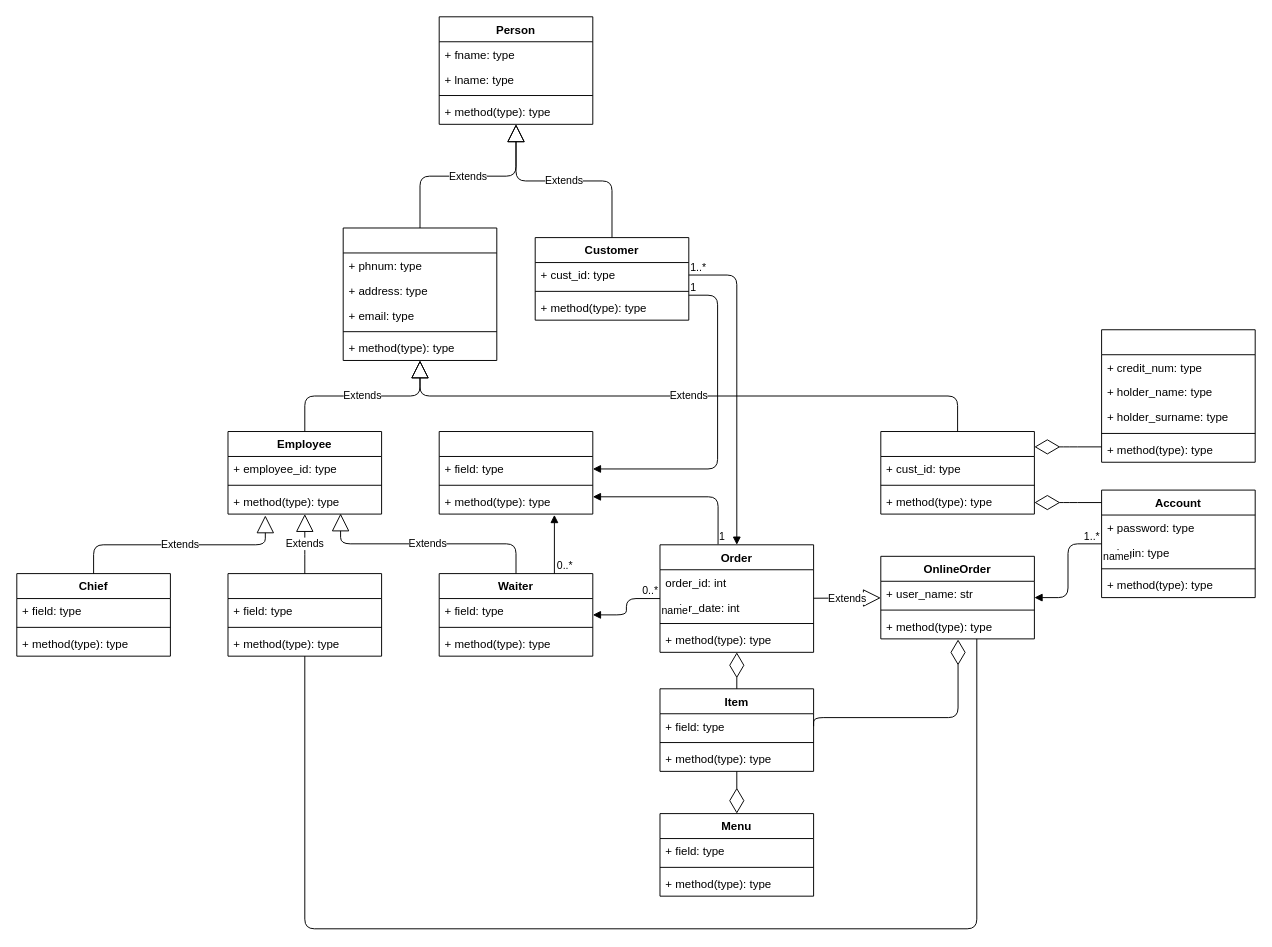
This 1272x947 diagram has some shape labels left out. Here are the shapes that lost their labels. From the top down, the box of each, then its label:
(342, 227, 497, 360): RegisteredPerson
(1101, 329, 1255, 462): CreditCard
(438, 431, 593, 514): Table
(880, 431, 1034, 514): OnlineCustomer
(227, 573, 382, 656): DeliveryBoy
